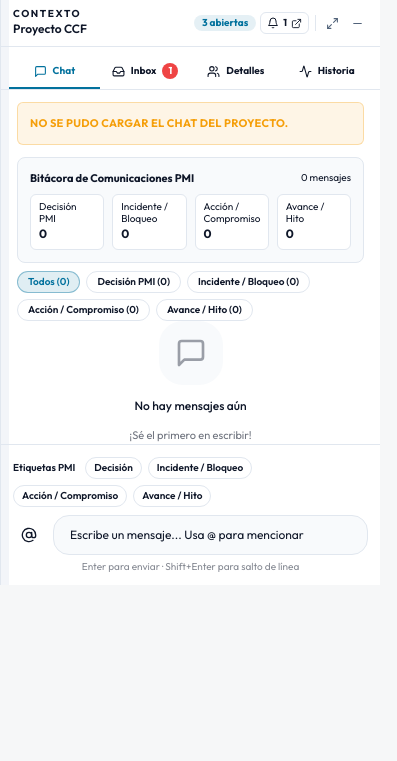
Scenario: ProjectContextPanel › shows PMI scope, schedule, and BAC diagnostics in Details
The image size is (397, 761).
Step 1. Click the tab "Detalles" → (236, 72), box x1=190 y1=55 x2=281 y2=89
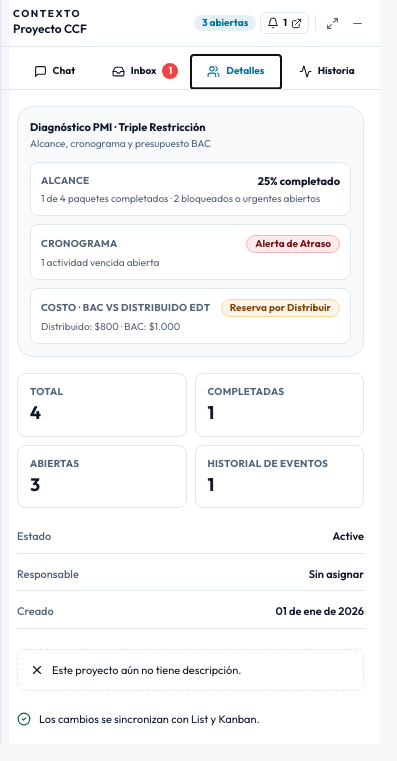
Now the element with test id "context-pmi-triple-constraint" shows "25% completado", box x1=17 y1=106 x2=364 y2=357
Now the element with test id "context-pmi-triple-constraint" shows "1 de 4 paquetes completados", box x1=17 y1=106 x2=364 y2=357
Now the element with test id "context-pmi-triple-constraint" shows "2 bloqueados o urgentes abiertos", box x1=17 y1=106 x2=364 y2=357
